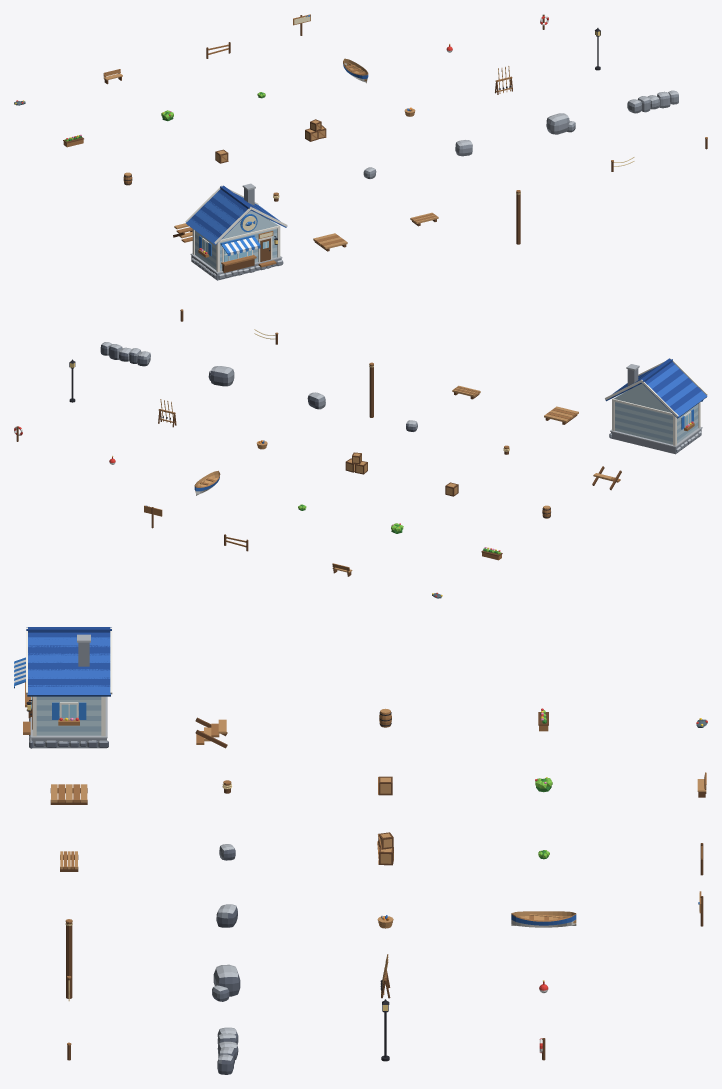
File: FishDockKit.glb
3 renders of one model, top to bottom at view 1: azimuth 30°, elevation 25°; view 2: azimuth 150°, elevation 25°; view 3: azimuth 270°, elevation 25°, orthographic. The views are drawn at different scales.
Parts seen in each view (by area): view 1: Shop__Roof_Blue, Shop__Trim, Shop__Roof_Dark, Shop__Wall_Light, Shop__Stone_Side, Shop__Awning_Blue, StoneRow__Stone_Side; view 2: Shop__Wall_Light, Shop__Wall_Mid, Shop__Roof_Blue, Shop__Roof_Dark, Shop__Trim, Shop__Stone_Side; view 3: Shop__Roof_Blue, Shop__Roof_Dark, Shop__Wall_Light, Shop__Wall_Mid, Shop__Stone_Side, Shop__Trim.
Part boxes in pixels (bbox=[...]): Shop__Roof_Blue: bbox=[186, 192, 287, 245]; Shop__Trim: bbox=[185, 185, 287, 272]; Shop__Roof_Dark: bbox=[190, 185, 281, 239]; Shop__Wall_Light: bbox=[195, 210, 278, 270]; Shop__Stone_Side: bbox=[191, 188, 283, 280]; Shop__Awning_Blue: bbox=[199, 214, 260, 255]; StoneRow__Stone_Side: bbox=[627, 92, 678, 113]; Shop__Wall_Light: bbox=[614, 383, 698, 444]; Shop__Wall_Mid: bbox=[615, 402, 698, 441]; Shop__Roof_Blue: bbox=[605, 364, 707, 418]; Shop__Roof_Dark: bbox=[611, 358, 701, 413]; Shop__Trim: bbox=[605, 358, 707, 445]; Shop__Stone_Side: bbox=[610, 368, 701, 454]; Shop__Roof_Blue: bbox=[27, 637, 110, 696]; Shop__Roof_Dark: bbox=[26, 627, 111, 686]; Shop__Wall_Light: bbox=[36, 700, 101, 735]; Shop__Wall_Mid: bbox=[36, 696, 101, 731]; Shop__Stone_Side: bbox=[29, 642, 108, 748]; Shop__Trim: bbox=[26, 627, 112, 736].
Size of the model in its own units: 192 by 40.85 by 149.
